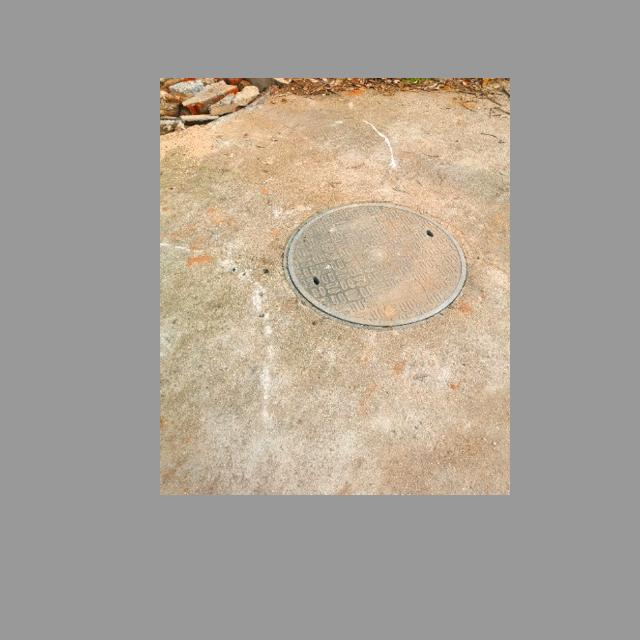good: (282, 202, 468, 329)
